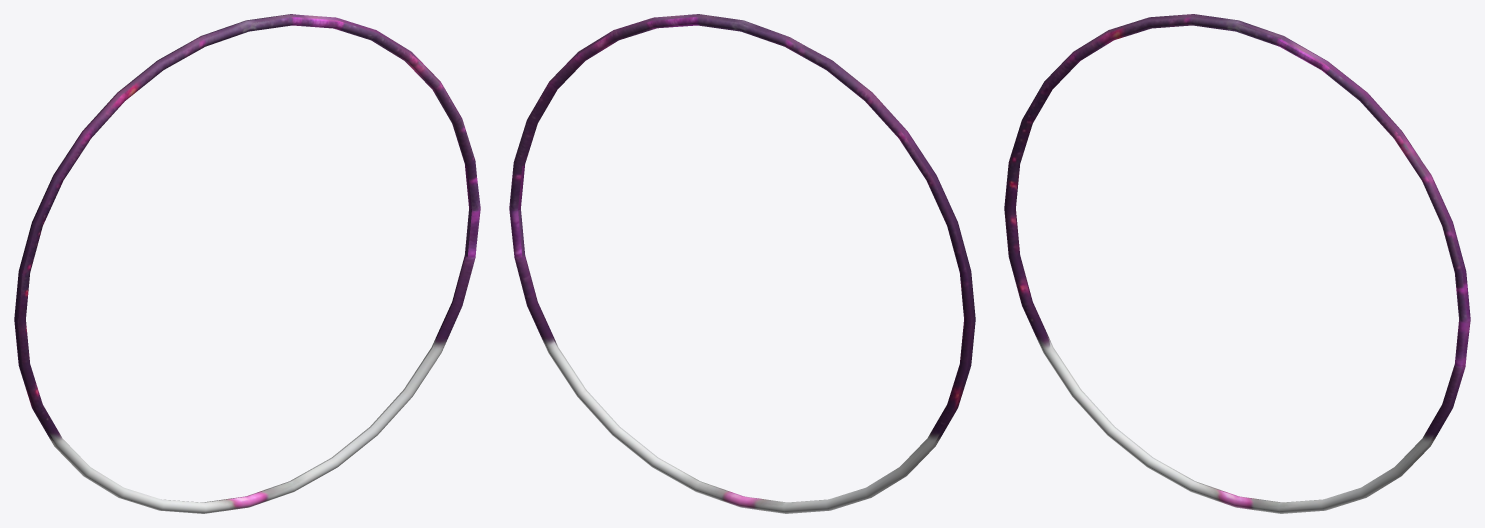
The model's file is crown-halo-texture-wrap-2026-05-14T23-31-40-865Z.high.glb.
The picture shows the model from 3 angles, left to right: view 1: azimuth 30°, elevation 25°; view 2: azimuth 150°, elevation 25°; view 3: azimuth 330°, elevation 25°; orthographic projection.
Parts seen in each view (by area): view 1: GLTF; view 2: GLTF; view 3: GLTF.
Boxes of the visible parts, x1,y1,x2,y2 form: GLTF: (14, 14, 480, 513); GLTF: (509, 14, 975, 513); GLTF: (1004, 14, 1470, 513).
Bounding box in the file's own units: 84.59 × 84.59 × 1.84.
Materials: 1 (1 with a texture image).
